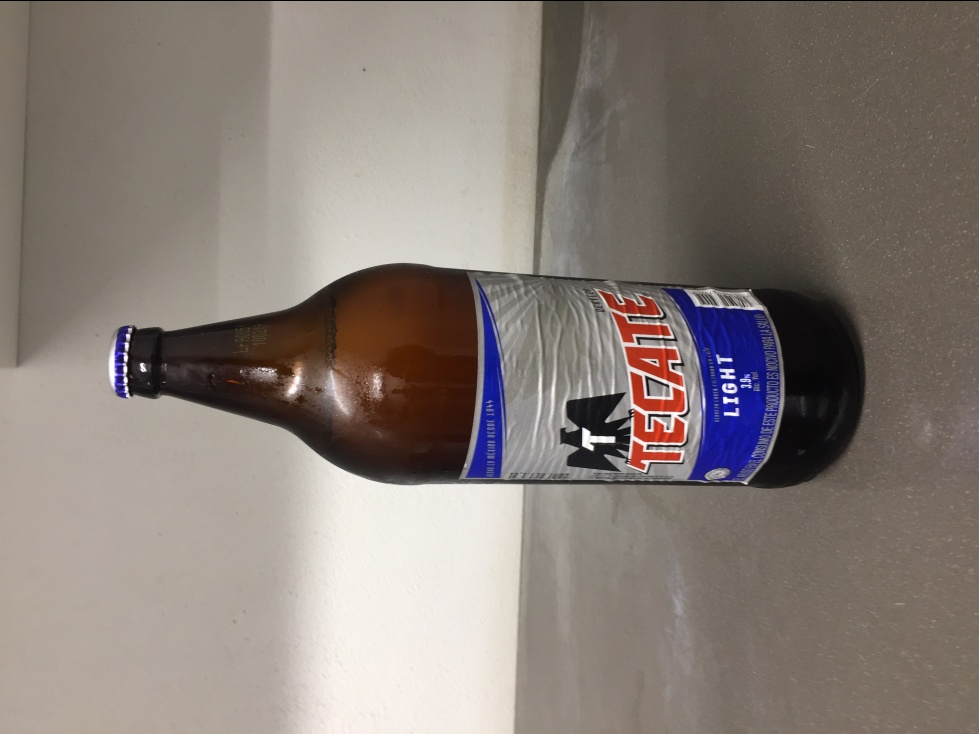tecateC: (105, 263, 853, 486)
